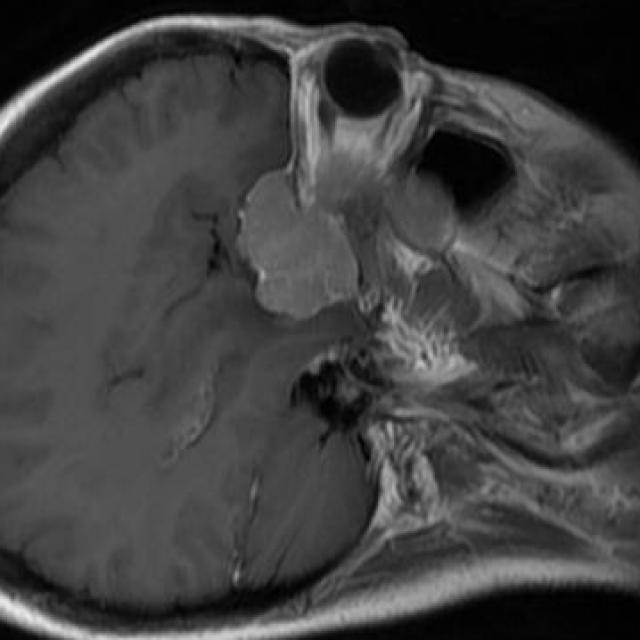meningioma: (241, 171, 358, 323)
